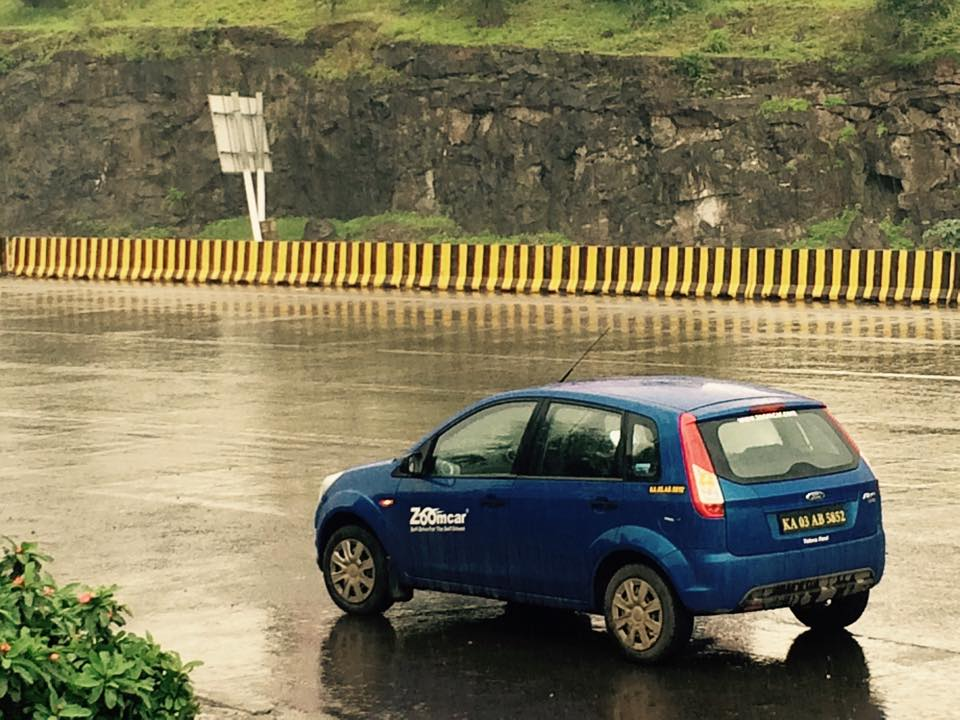Car: (309, 365, 902, 671)
